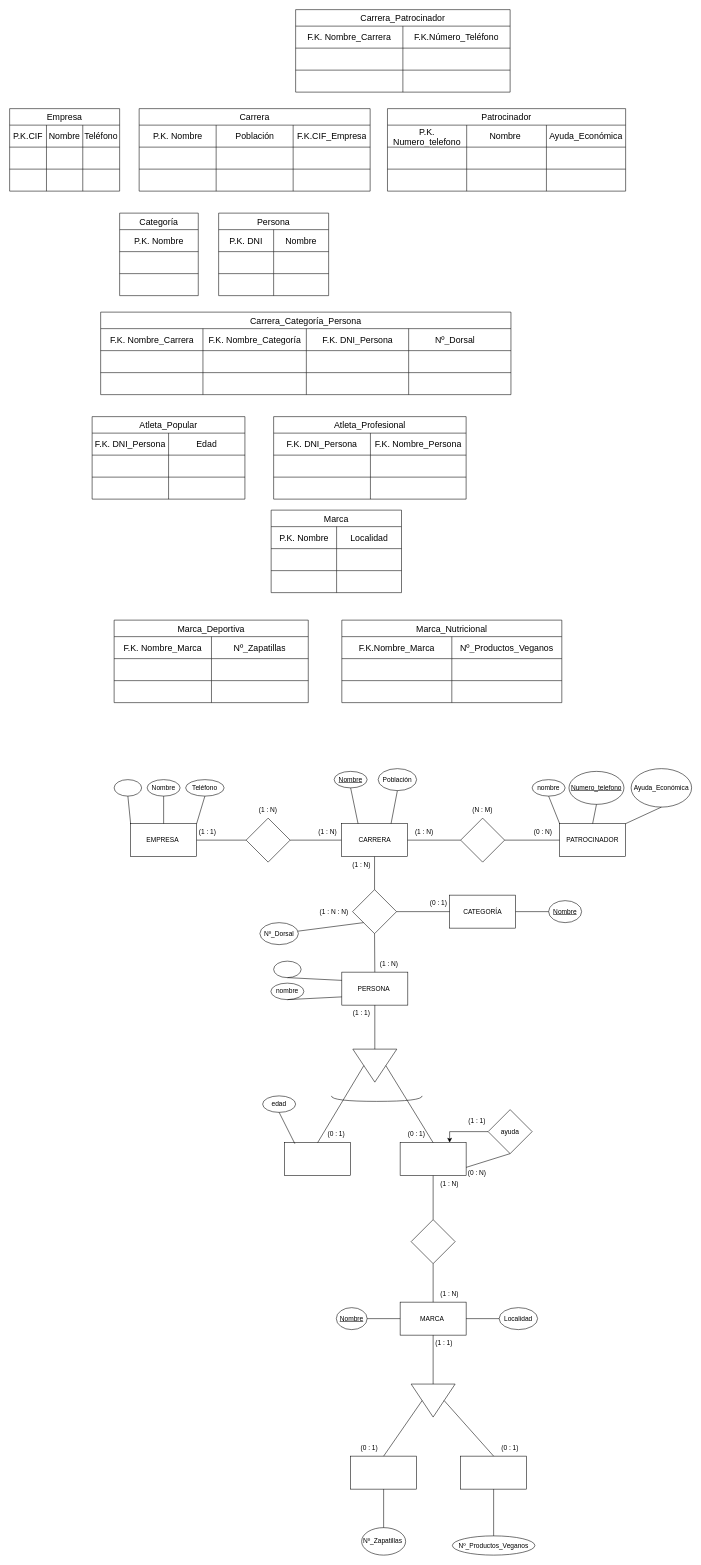
Some shapes in this 701 by 1565 pixel diagram are drawn without their labels. The shapes that lost their labels are listed below. From the top down, each one's centre as x and y in pixels, then its label:
the point at 128,787: CIF
the point at 268,840: encargada de
the point at 482,840: patrocina
the point at 374,911: paticipan
the point at 287,969: DNI
the point at 317,1159: ATLETA POPULAR
the point at 433,1159: ATLETA PROFESIONAL
the point at 433,1241: patrocinado
the point at 383,1472: DEPORTIVA
the point at 493,1472: NUTRICIONAL
